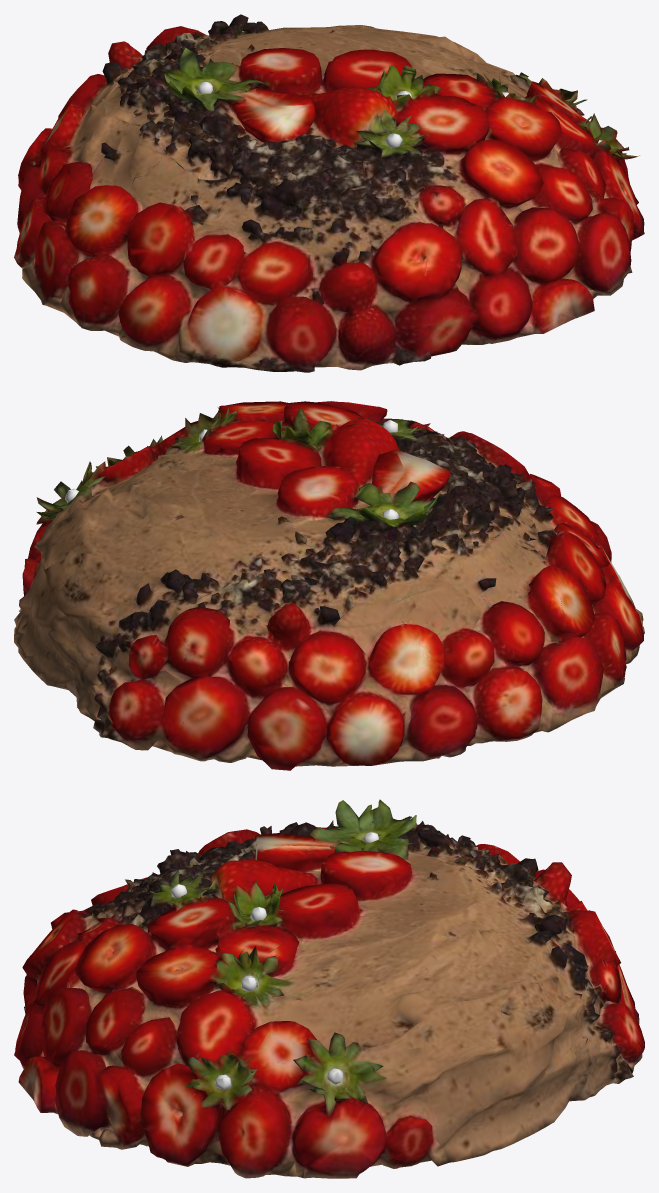
File: cake.glb
3 views of the same model, one above another, from view 1: azimuth 30°, elevation 25°; view 2: azimuth 150°, elevation 25°; view 3: azimuth 270°, elevation 25° (orthographic). The views are drawn at different scales.
Parts seen in each view (by area): view 1: cake_body; view 2: cake_body; view 3: cake_body.
Part boxes in pixels (x1,y1,x2,y2): cake_body: (14, 14, 644, 372); cake_body: (14, 401, 644, 770); cake_body: (14, 799, 644, 1178).
Bounding box in the file's own units: 0.24 × 0.0772 × 0.2362.
1 material, 1 textured.
